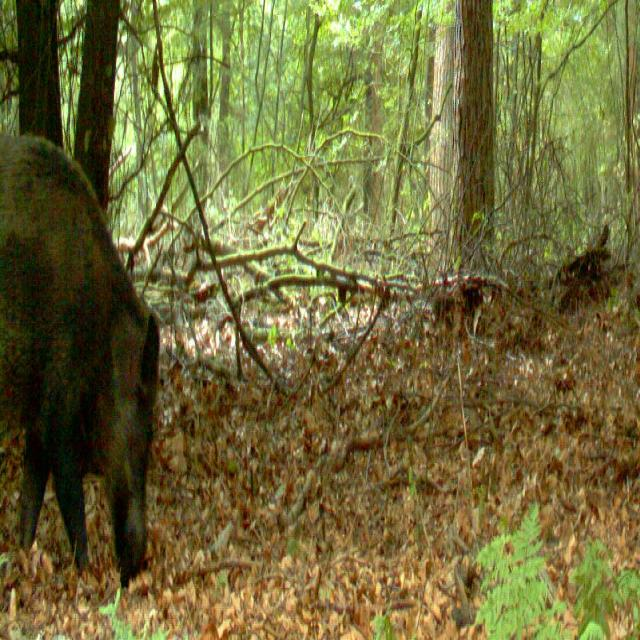pig: (0, 64, 199, 640)
